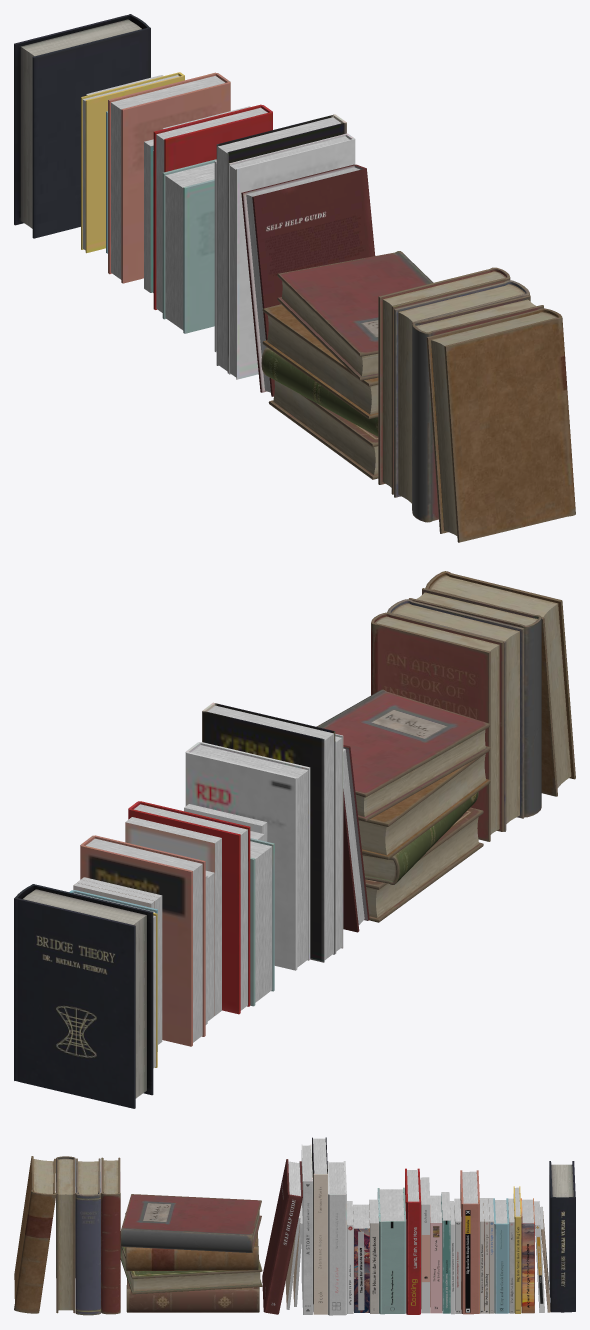
File: books.glb
3 renders of one model, top to bottom at view 1: azimuth 30°, elevation 25°; view 2: azimuth 150°, elevation 25°; view 3: azimuth 270°, elevation 25°, orthographic. The views are drawn at different scales.
Visible parts, largest first — view 1: book.007, book.001, book.035, book.029, book.004, book.025, book.026, book.003, book.008, book.022, book.020, book.010 (+5 smaller); view 2: book.001, book.030, book.010, book.004, book.029, book.020, book.007, book.022, book.008, book.003, book.006, book.002 (+9 smaller); view 3: book.004, book.007, book.008, book.001, book.025, book.035, book.003, book.010, book.002, book.030, book.005, book.006 (+23 smaller).
Part boxes in pixels (box(x1,y1,x2,y2)): book.007: box(426, 308, 575, 542); book.001: box(14, 14, 150, 238); book.035: box(241, 164, 375, 396); book.029: box(108, 72, 230, 283); book.004: box(277, 251, 433, 380); book.025: box(162, 159, 216, 333); book.026: box(229, 133, 355, 379); book.003: box(412, 295, 543, 522); book.008: box(394, 280, 529, 510); book.022: box(153, 104, 272, 312); book.020: box(216, 114, 346, 373); book.010: box(378, 267, 510, 494); book.001: box(14, 884, 153, 1108); book.030: box(185, 742, 310, 970); book.010: box(371, 612, 503, 841); book.004: box(316, 689, 490, 821); book.029: box(80, 835, 205, 1046); book.020: box(202, 702, 335, 962); book.007: box(425, 571, 575, 796); book.022: box(128, 801, 250, 1014); book.008: box(387, 599, 524, 831); book.003: box(409, 588, 541, 817); book.006: box(358, 746, 490, 859); book.002: box(365, 807, 483, 922); book.004: box(120, 1194, 261, 1252); book.007: box(14, 1156, 56, 1313); book.008: box(75, 1158, 100, 1315); book.001: box(549, 1161, 575, 1312); book.025: box(377, 1187, 406, 1314); book.035: box(262, 1159, 302, 1314); book.003: box(56, 1156, 75, 1313); book.010: box(101, 1157, 120, 1314); book.002: box(126, 1255, 259, 1312); book.030: box(327, 1161, 346, 1315); book.005: box(120, 1246, 262, 1294); book.006: box(125, 1213, 258, 1271).
Bounding box in the file's own units: 0.2102 × 0.3096 × 1.12.
Materials: 3 (3 with a texture image).
